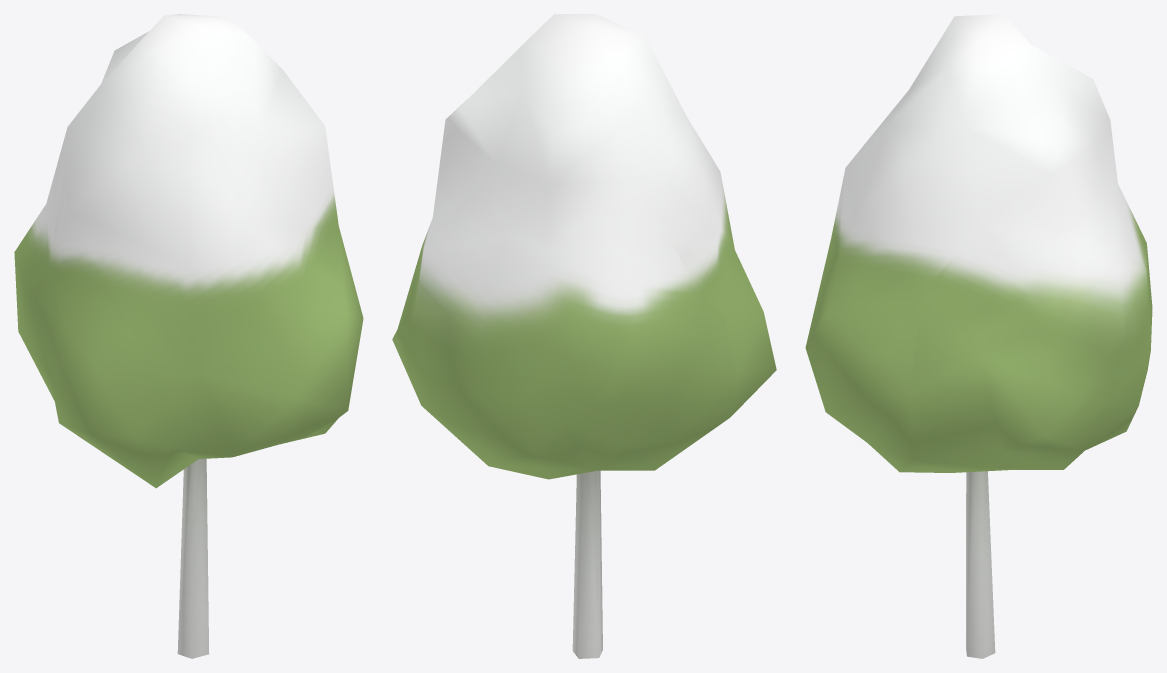
3 renders of one model, left to right at view 1: azimuth 30°, elevation 25°; view 2: azimuth 150°, elevation 25°; view 3: azimuth 270°, elevation 25°, orthographic.
Parts seen in each view (by area): view 1: wBerez; view 2: wBerez; view 3: wBerez.
Boxes of the visible parts, <box> form: wBerez: <box>14,14,363,658</box>; wBerez: <box>392,14,776,658</box>; wBerez: <box>805,14,1152,658</box>.
Bounding box in the file's own units: 10.18 × 20 × 9.99.
Materials: 1 (1 with a texture image).
